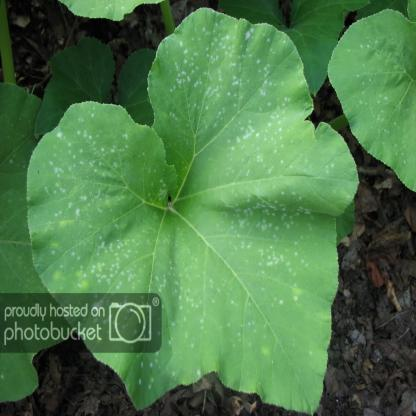squash powdery mildew leaf: (26, 5, 360, 415)
